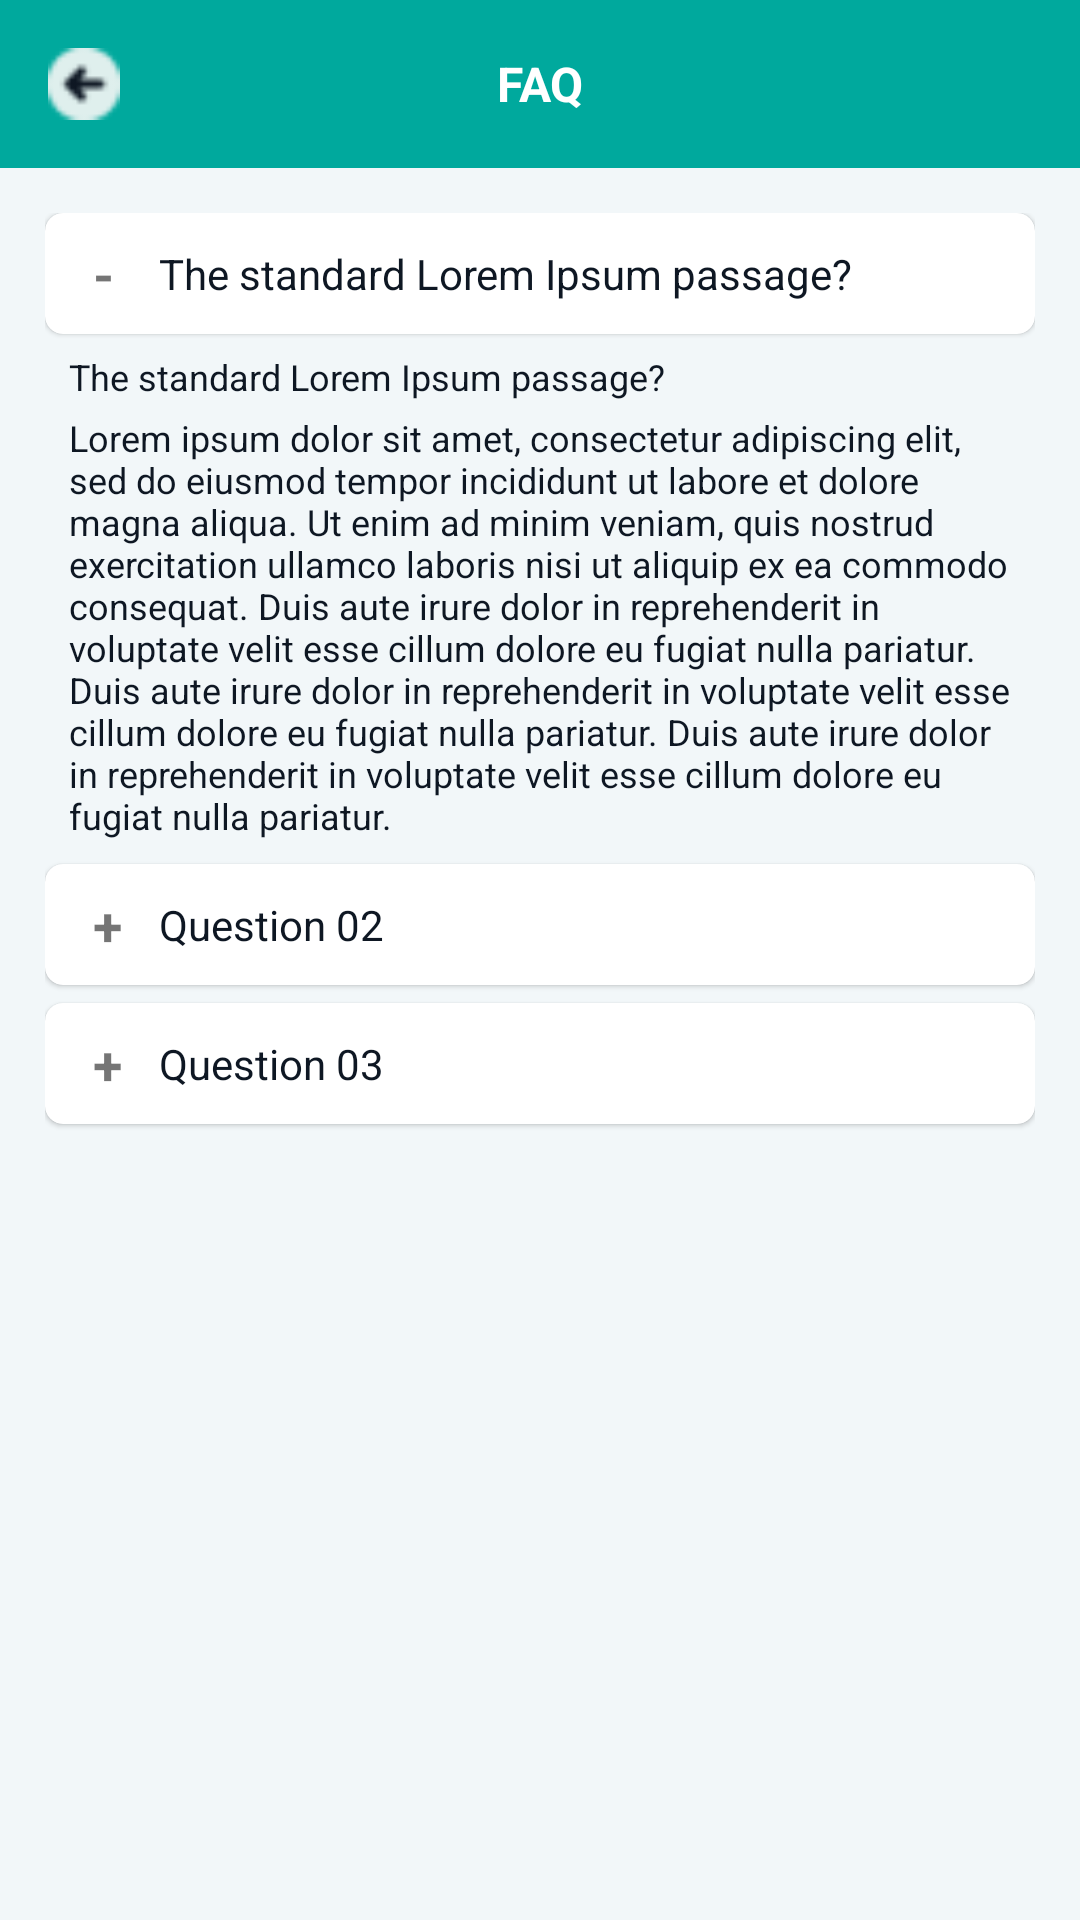

Where icons sit on this 1080 x 1920 app screen, as [x1, y1, x2, y2]:
previous: [48, 48, 120, 120]
